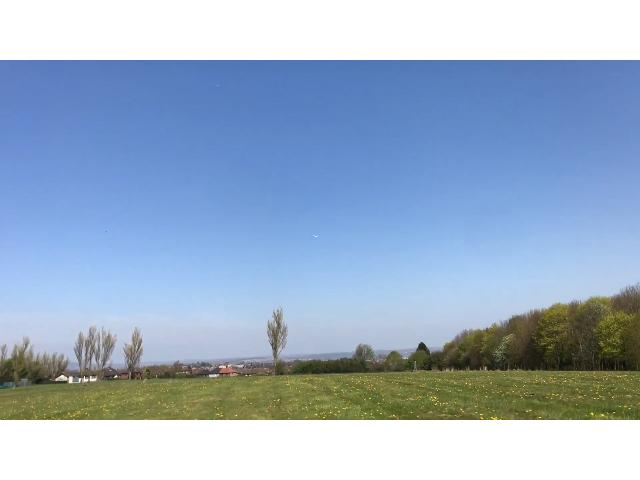Anti-Drone: (304, 233, 326, 247)
